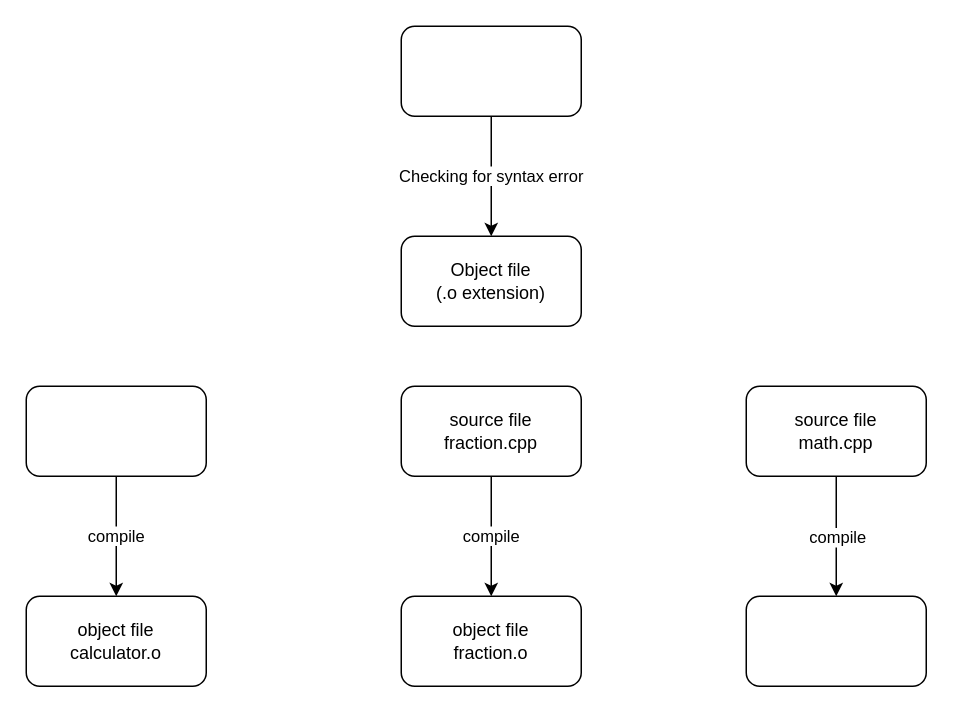
This 953x713 diagram has some shape labels left out. Here are the shapes that lost their labels. From the top down, the box of each, then its label:
(400, 25, 581, 116): Source Code
(25, 385, 206, 476): source file calculator.cpp
(745, 595, 926, 686): object file math.o
